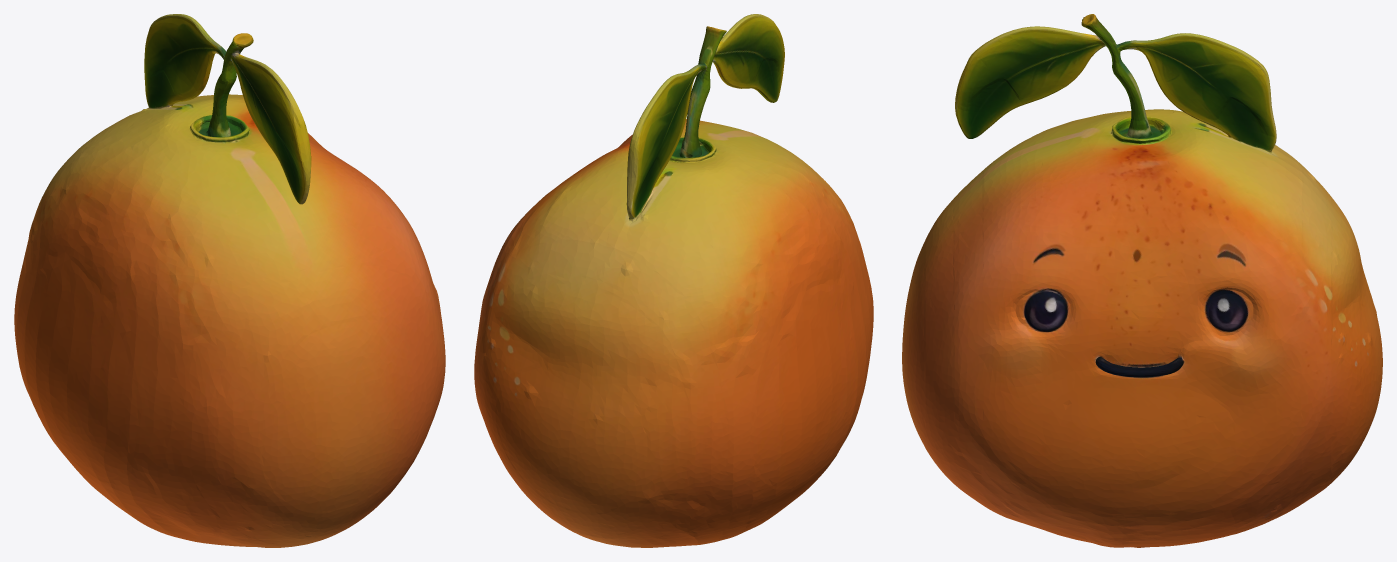
Rendered from Mulix.glb.
The picture shows the model from 3 angles, left to right: view 1: azimuth 30°, elevation 25°; view 2: azimuth 150°, elevation 25°; view 3: azimuth 270°, elevation 25°; orthographic projection. The views are drawn at different scales.
Visible parts, largest first — view 1: tripo_node_9f3f1262-fc96-469e-9345-01923601548c; view 2: tripo_node_9f3f1262-fc96-469e-9345-01923601548c; view 3: tripo_node_9f3f1262-fc96-469e-9345-01923601548c.
Boxes of the visible parts, x1,y1,x2,y2 form: tripo_node_9f3f1262-fc96-469e-9345-01923601548c: [14, 14, 445, 547]; tripo_node_9f3f1262-fc96-469e-9345-01923601548c: [474, 14, 873, 547]; tripo_node_9f3f1262-fc96-469e-9345-01923601548c: [902, 14, 1382, 547].
Bounding box in the file's own units: 0.6417 × 0.9998 × 0.854.
1 material, 1 textured.
